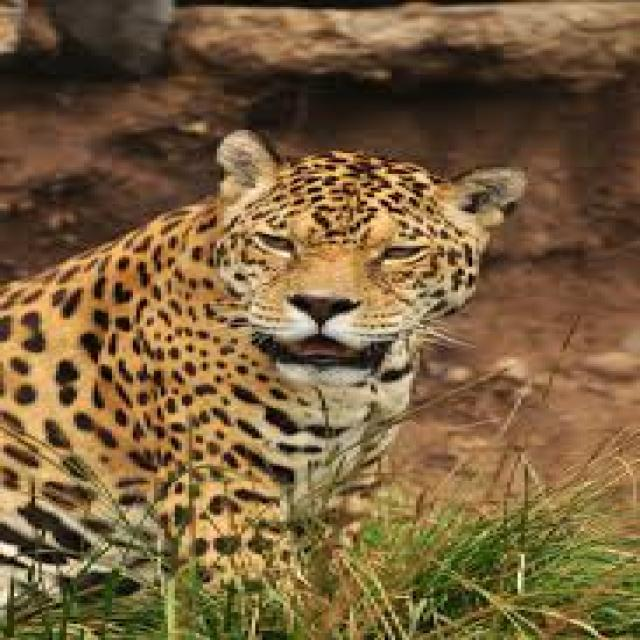Jaguar: (7, 125, 528, 631)
